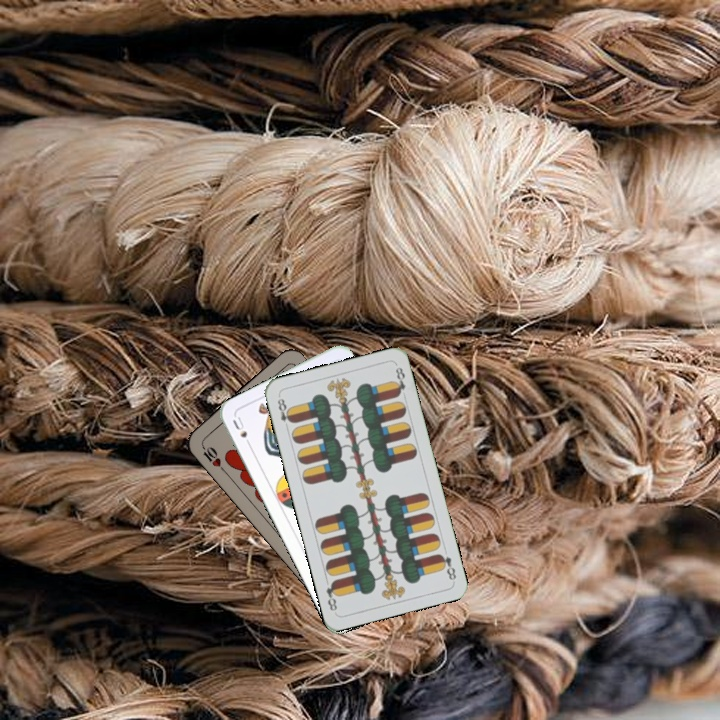E8: (273, 394, 295, 432), (435, 550, 459, 583)
H10: (197, 441, 228, 475)
SU: (228, 412, 254, 450)
